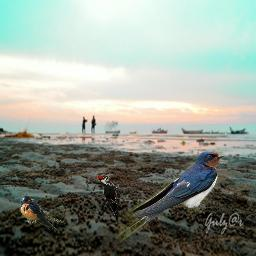Swallow: (115, 151, 225, 243), (20, 195, 66, 230)
Woodpecker: (97, 173, 121, 226)
